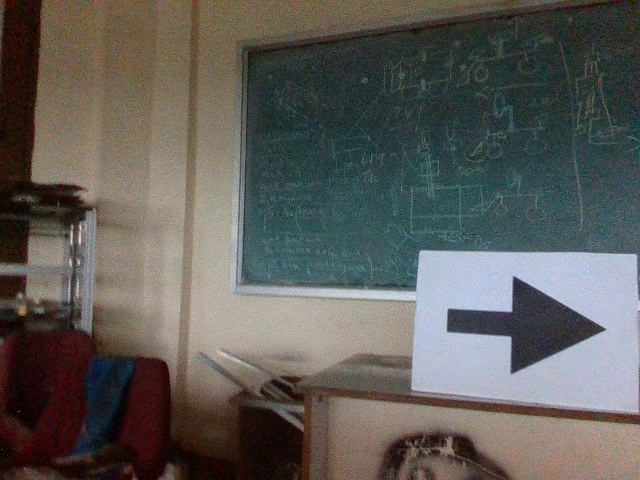Right: (440, 269, 614, 377)
